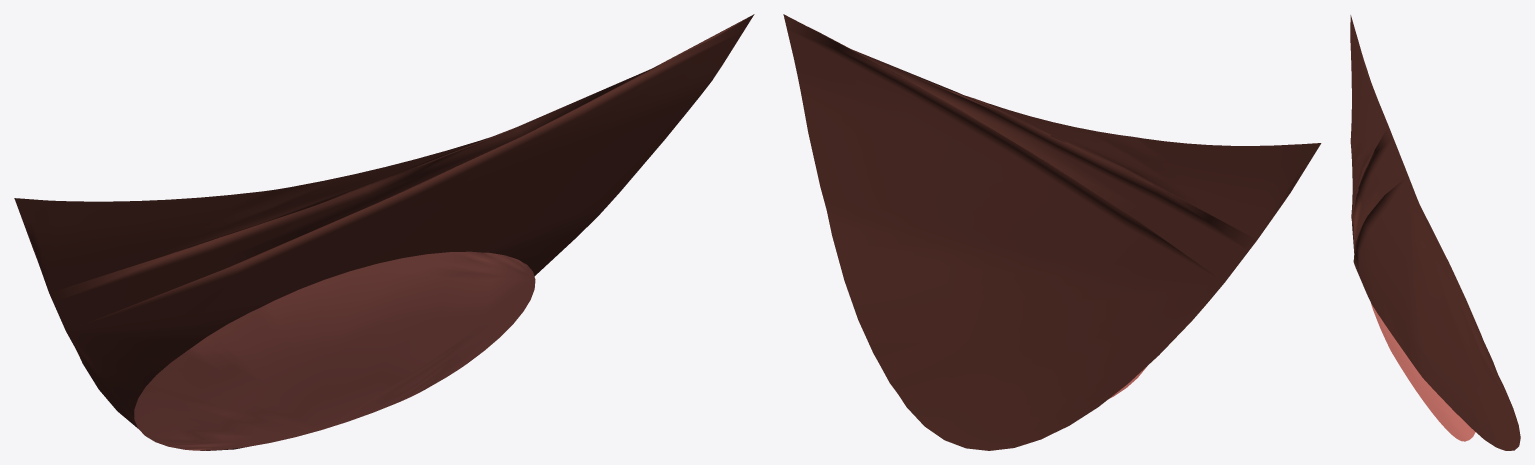
Rendered from mouth_open_smile.glb.
3 views of the same model, side by side, from view 1: azimuth 30°, elevation 25°; view 2: azimuth 150°, elevation 25°; view 3: azimuth 270°, elevation 25° (orthographic). The views are drawn at different scales.
Visible parts, largest first — view 1: Cat_mouth_open_smile.001; view 2: Cat_mouth_open_smile.001; view 3: Cat_mouth_open_smile.001.
Part boxes in pixels (x1,y1,x2,y2): Cat_mouth_open_smile.001: (14, 14, 754, 450); Cat_mouth_open_smile.001: (783, 14, 1321, 450); Cat_mouth_open_smile.001: (1350, 15, 1520, 450).
Size of the model in its own units: 0.032 by 0.0175 by 0.0091.
